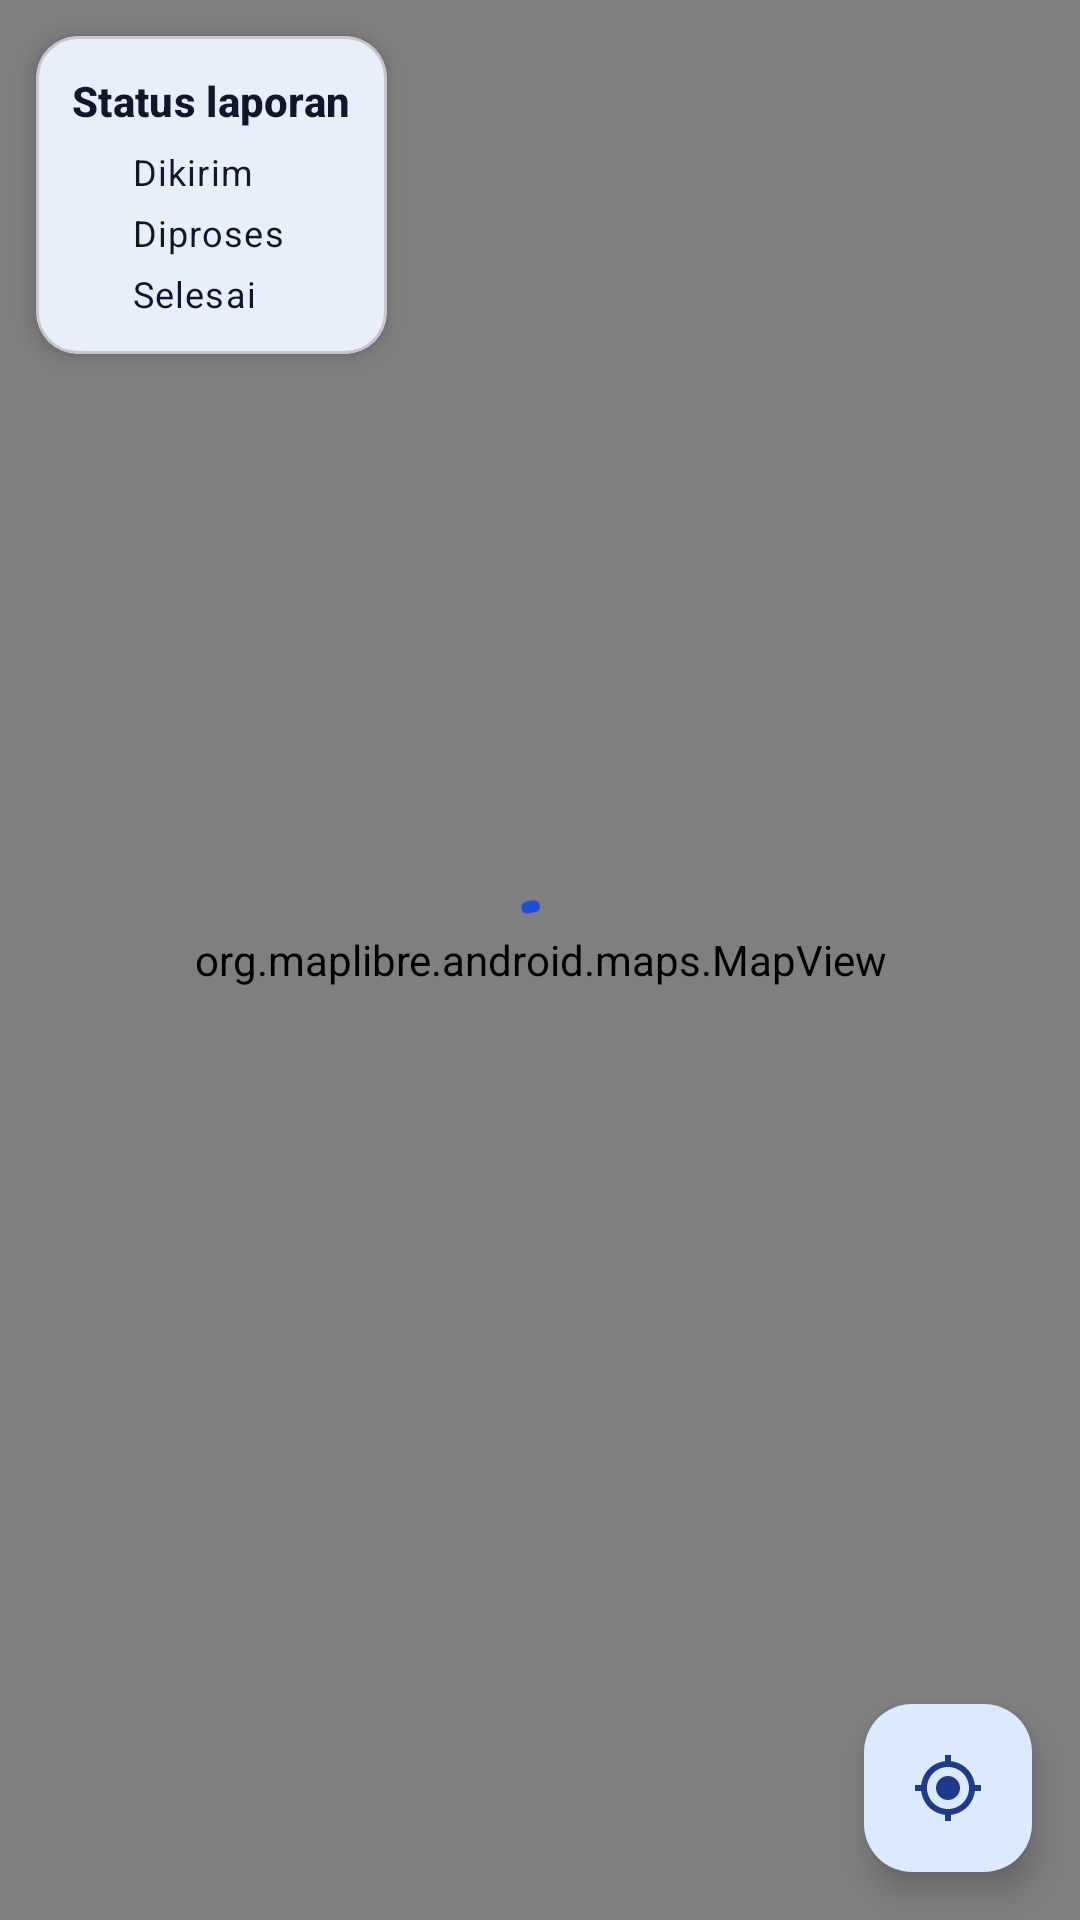

Icon bounding boxes for this 1080 x 1920 phone screenshot, format region(x1, y1, x2, y2):
Lokasi saya: region(864, 1704, 1032, 1872)
